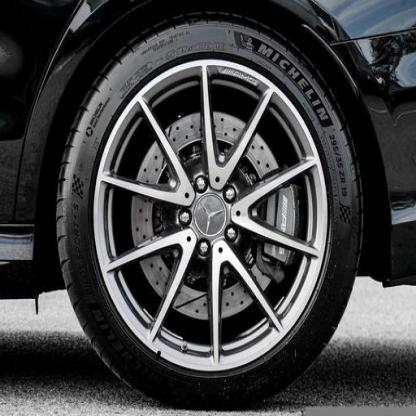Tire: (52, 14, 364, 412)
